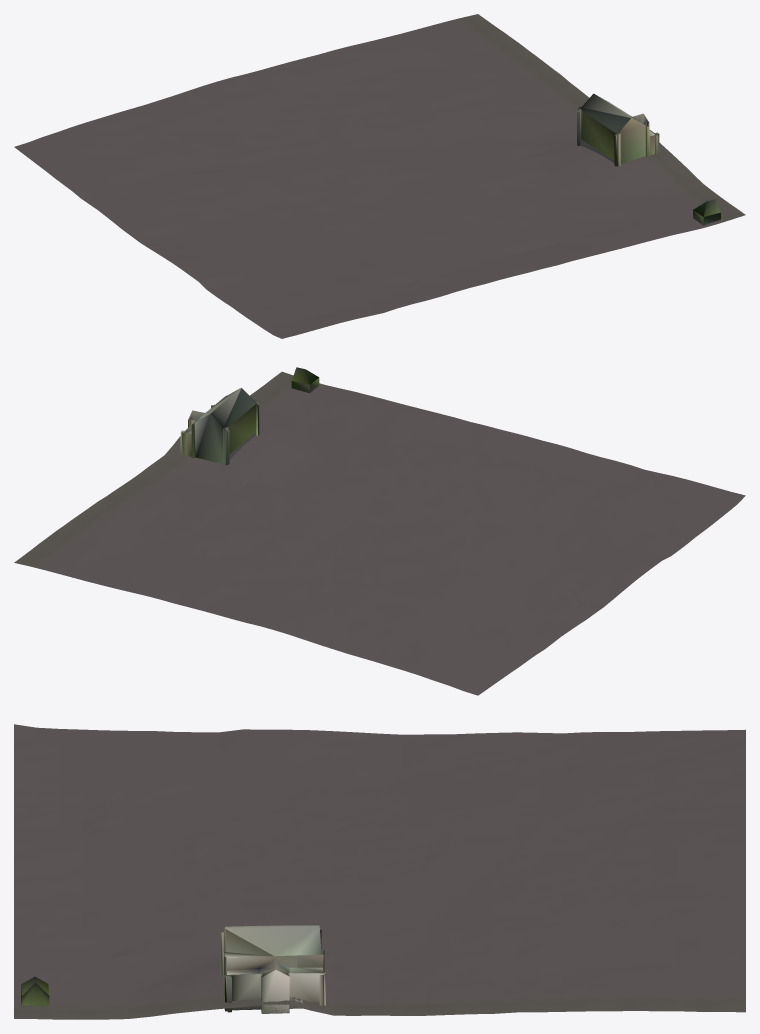
3 renders of one model, top to bottom at view 1: azimuth 30°, elevation 25°; view 2: azimuth 150°, elevation 25°; view 3: azimuth 270°, elevation 25°, orthographic. The views are drawn at different scales.
Visible parts, largest first — view 1: c_m15_p01; view 2: c_m15_p01; view 3: c_m15_p01.
Part boxes in pixels (x1,y1,x2,y2): c_m15_p01: (14, 14, 745, 338); c_m15_p01: (14, 367, 745, 695); c_m15_p01: (14, 724, 745, 1019).
Bounding box in the file's own units: 128 × 17.93 × 128.
